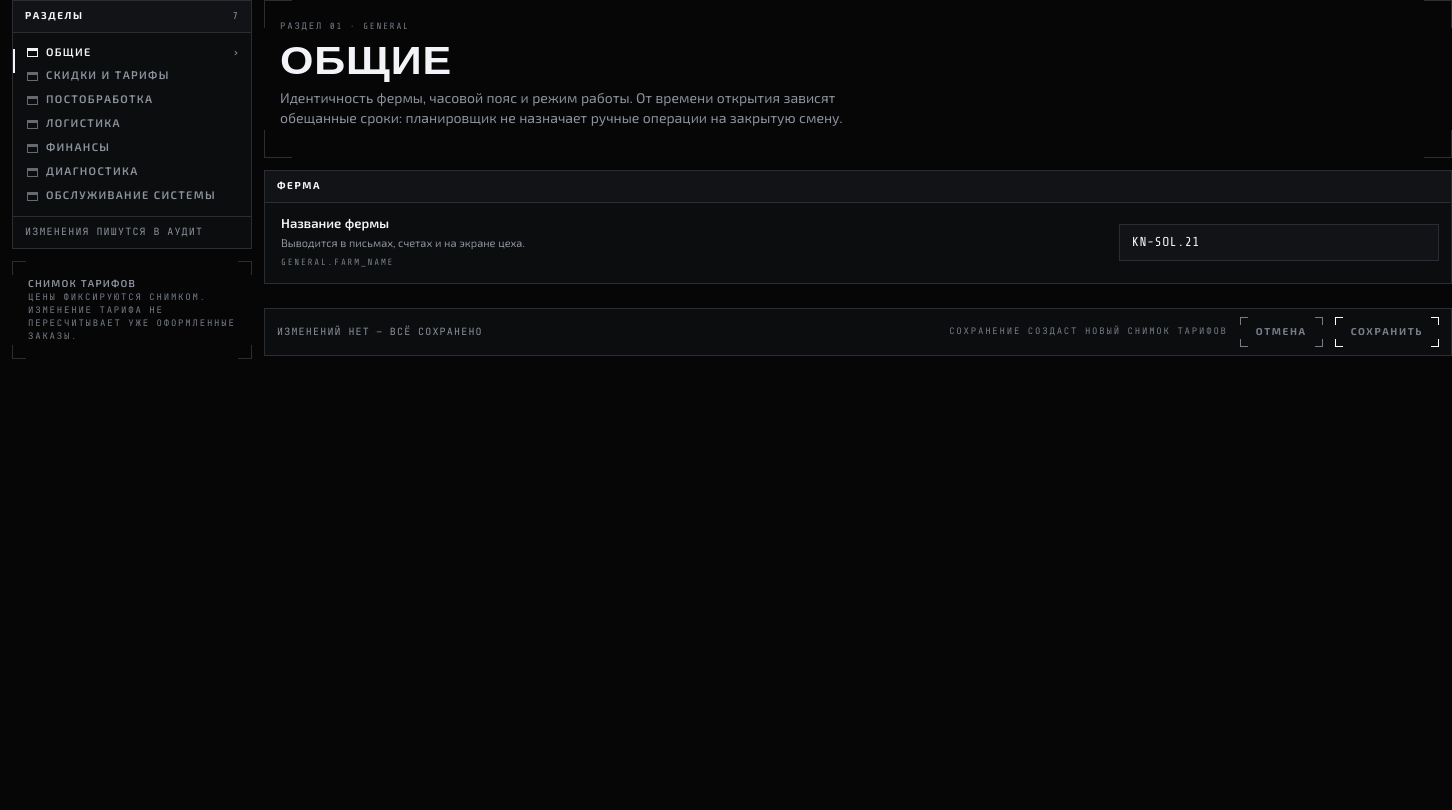
the sections › edits the volume ladder as a table of rungs
Expected: the text "Название фермы" is shown, [281, 215, 389, 232]
Step 1. Click the tab "Скидки и тарифы" → (132,76), box [13, 64, 251, 88]
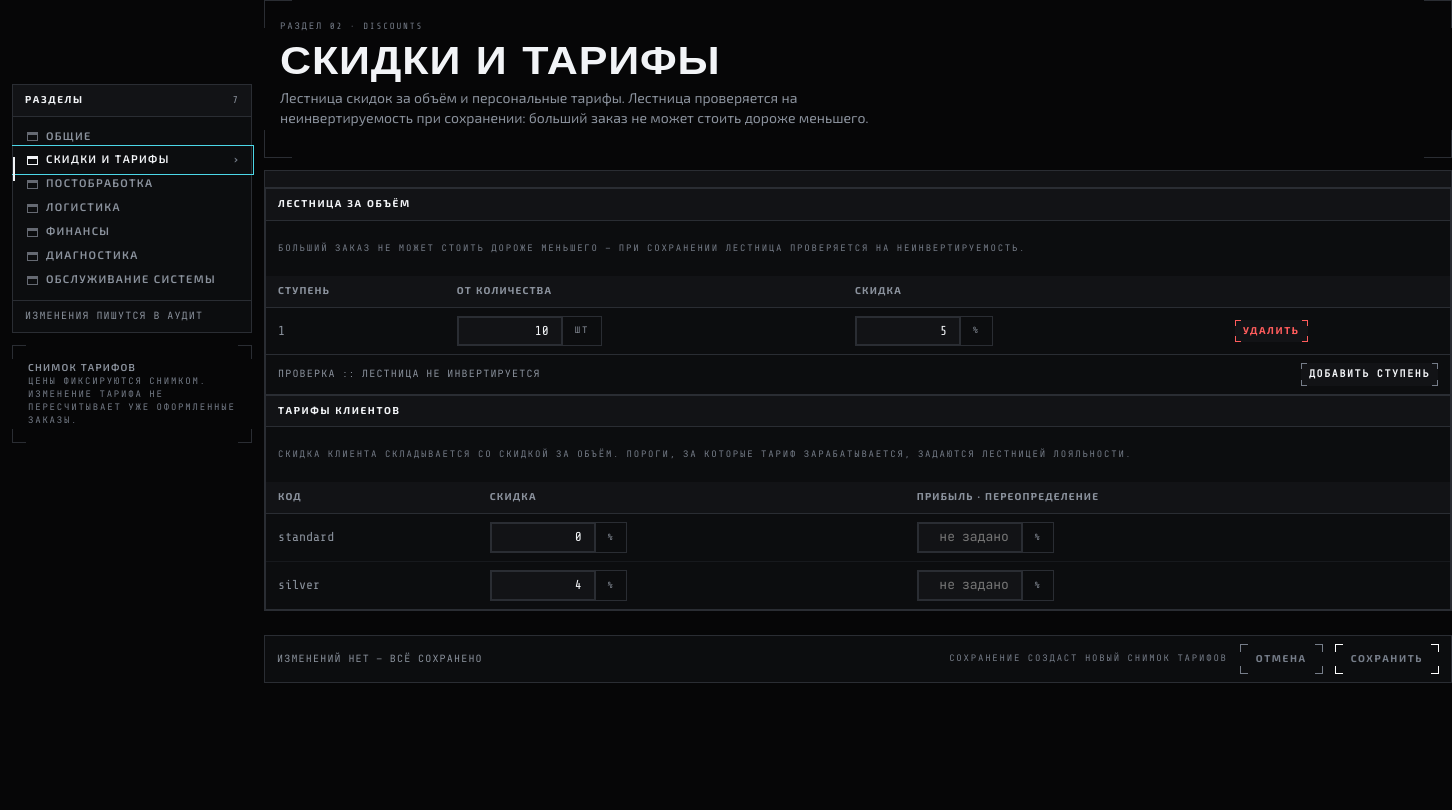
Expected: the text "Лестница за объём" is shown, [278, 198, 411, 212]
Expected: the number field showing "10" is shown, [458, 316, 562, 345]
Step 2. Click the button "Добавить ступень" → (1370,375), box [1301, 363, 1438, 386]
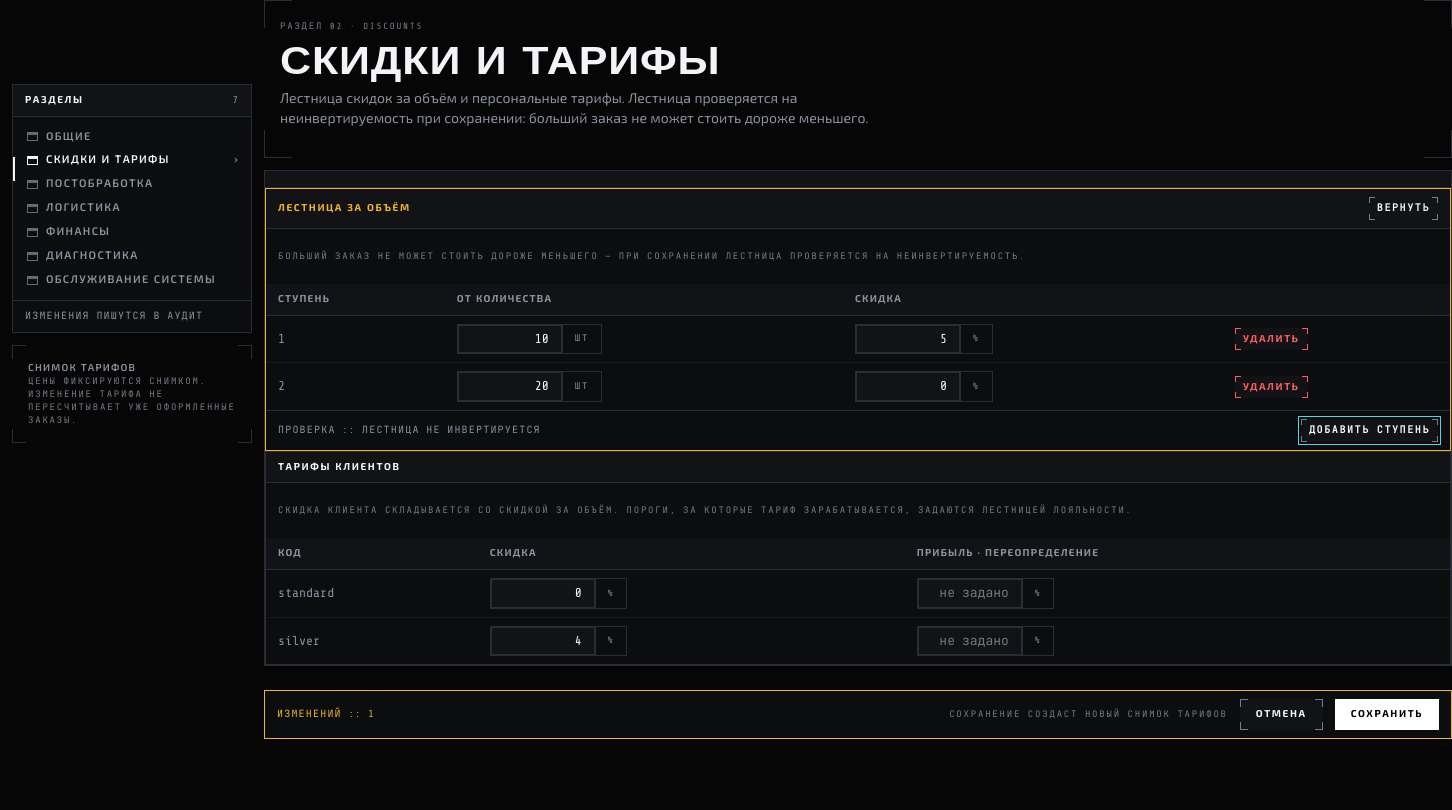
Expected: the text "ИЗМЕНЕНИЙ :: 1" is shown, [277, 707, 375, 722]
Expected: the button "Вернуть" is shown, [1369, 198, 1438, 220]
